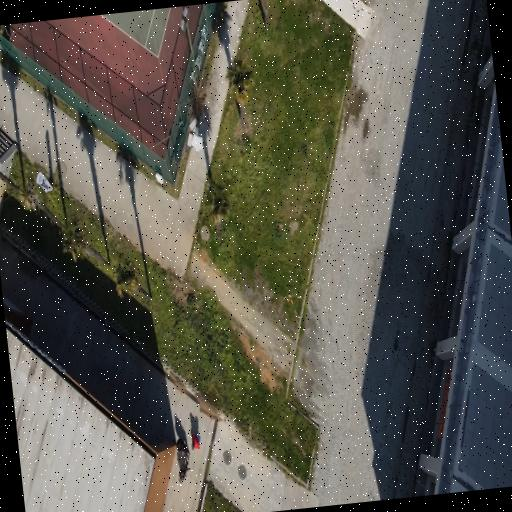person: (178, 457, 188, 482), (175, 439, 188, 454), (191, 433, 199, 449)
